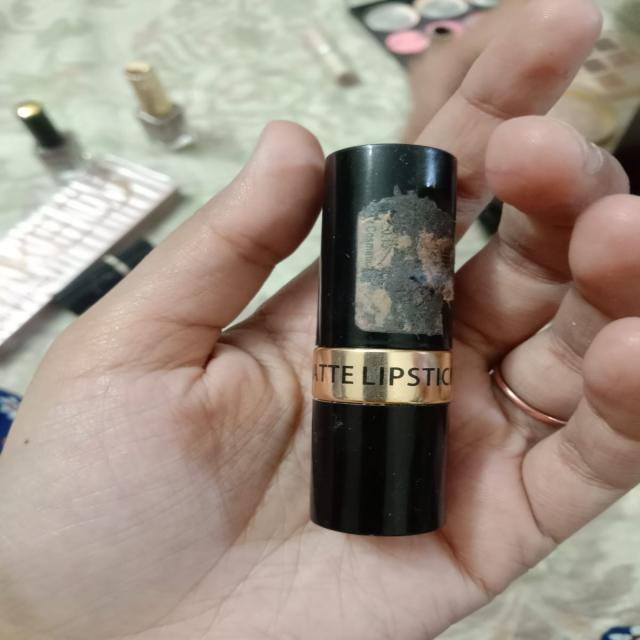lip stick: (289, 130, 484, 546)
